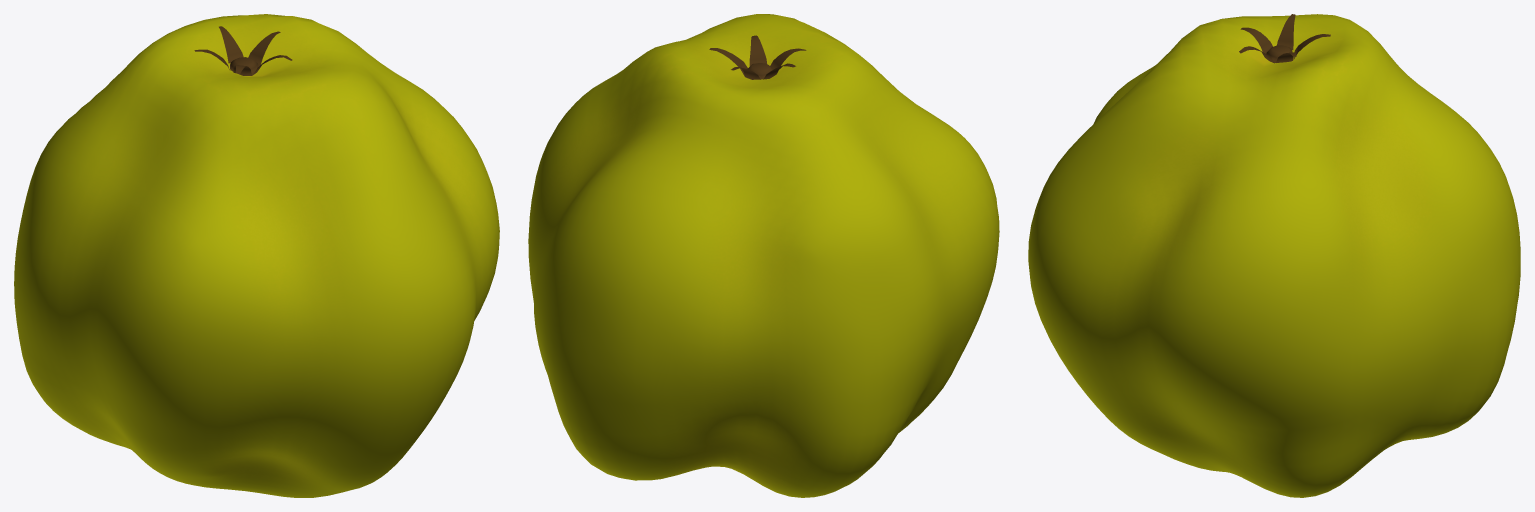
The model's file is Behi.fbx.
3 views of the same model, side by side, from view 1: azimuth 30°, elevation 25°; view 2: azimuth 150°, elevation 25°; view 3: azimuth 270°, elevation 25° (orthographic). The views are drawn at different scales.
Parts seen in each view (by area): view 1: Cube, Circle; view 2: Cube, Circle; view 3: Cube, Circle.
Boxes of the visible parts, <box> form: Cube: <box>14,14,499,497</box>; Circle: <box>194,26,292,75</box>; Cube: <box>528,14,999,497</box>; Circle: <box>709,35,806,79</box>; Cube: <box>1028,14,1520,497</box>; Circle: <box>1239,14,1330,63</box>.
Bounding box in the file's own units: 358 × 355 × 382.
Materials: 2 (2 with a texture image).
